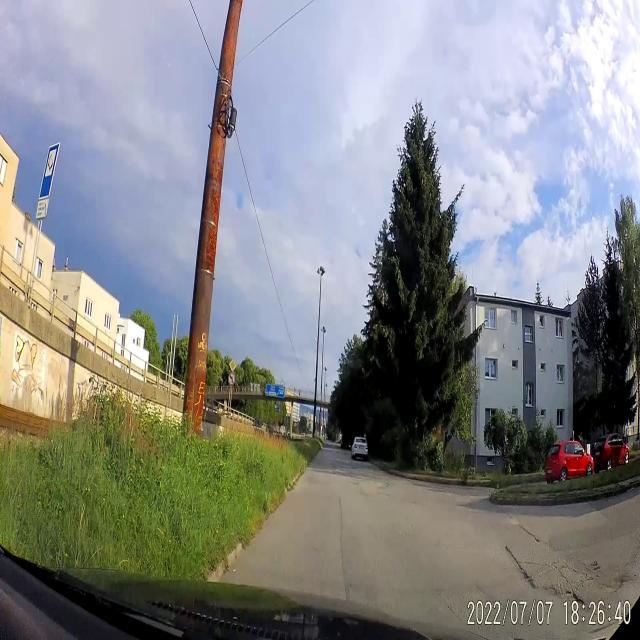Pothole: (546, 554, 602, 616), (500, 538, 546, 587)
